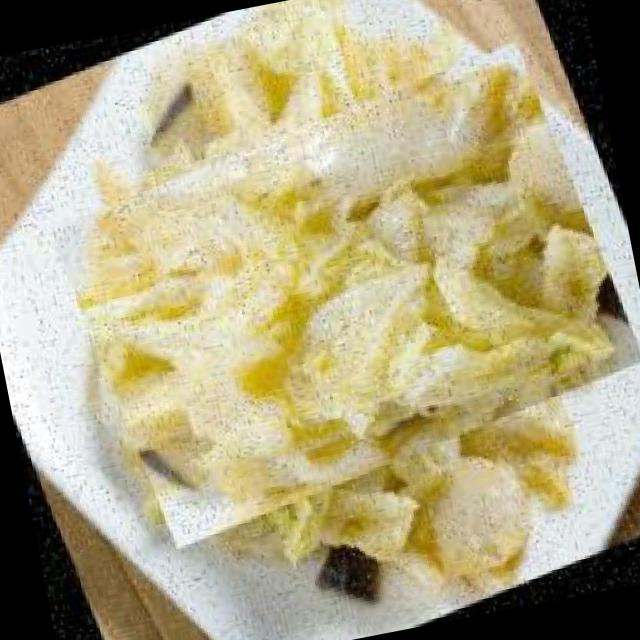chinese_cabbage: (55, 4, 639, 588)
